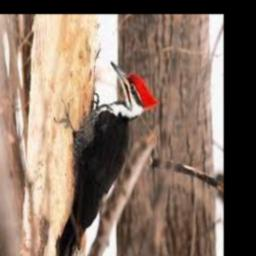Woodpecker: (56, 61, 159, 256)
